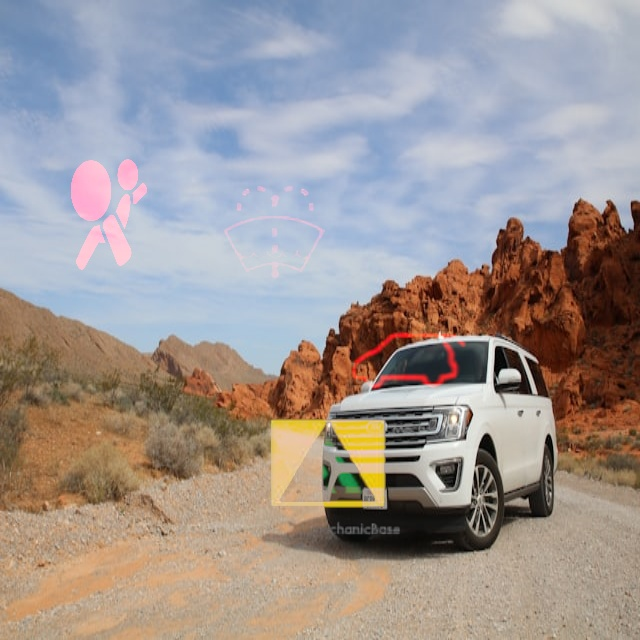symbol: (191, 150, 359, 318), (330, 284, 488, 442), (250, 386, 406, 542), (30, 137, 178, 285)
